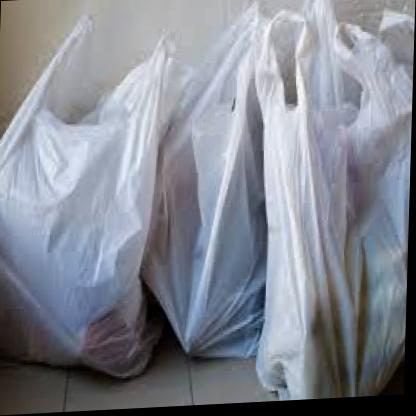Plastic: (0, 0, 169, 386), (246, 12, 407, 396), (152, 0, 278, 357)
